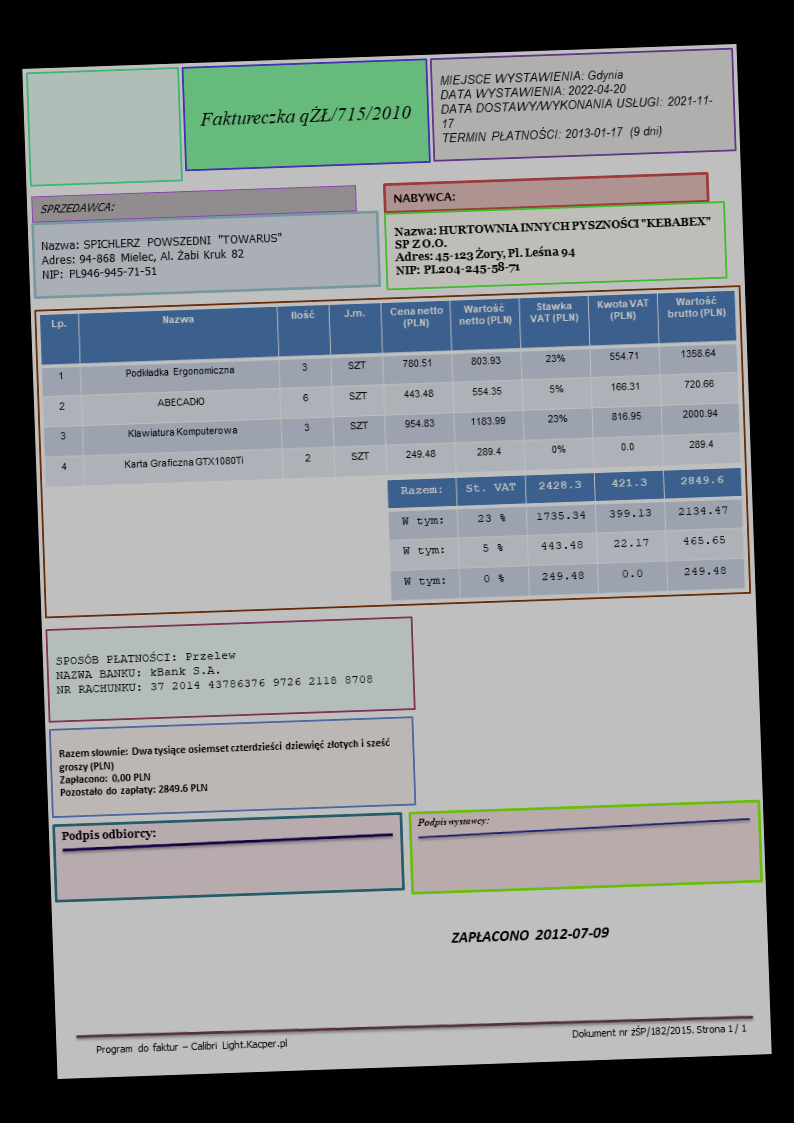Table: (38, 287, 739, 489), (386, 465, 747, 603)
TextBox: (438, 62, 715, 150), (56, 733, 393, 801), (391, 212, 717, 278), (53, 641, 375, 699), (37, 226, 286, 284), (195, 99, 413, 131), (92, 1034, 289, 1059), (570, 1019, 749, 1042), (449, 922, 612, 946), (58, 822, 157, 846), (414, 810, 490, 830), (38, 197, 115, 216), (389, 188, 456, 207)
